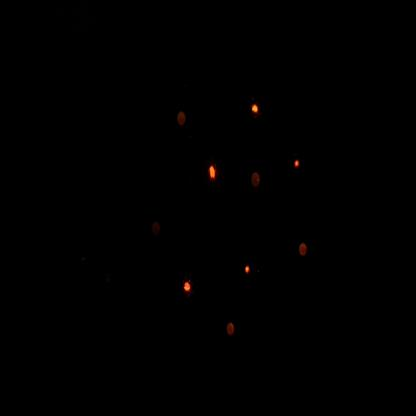PS: (290, 223, 319, 272), (220, 306, 244, 356), (146, 208, 170, 250), (245, 164, 267, 202), (173, 108, 192, 131)
PVC: (176, 263, 205, 313), (244, 85, 268, 134), (203, 156, 224, 196), (239, 250, 258, 289), (290, 150, 308, 185)
